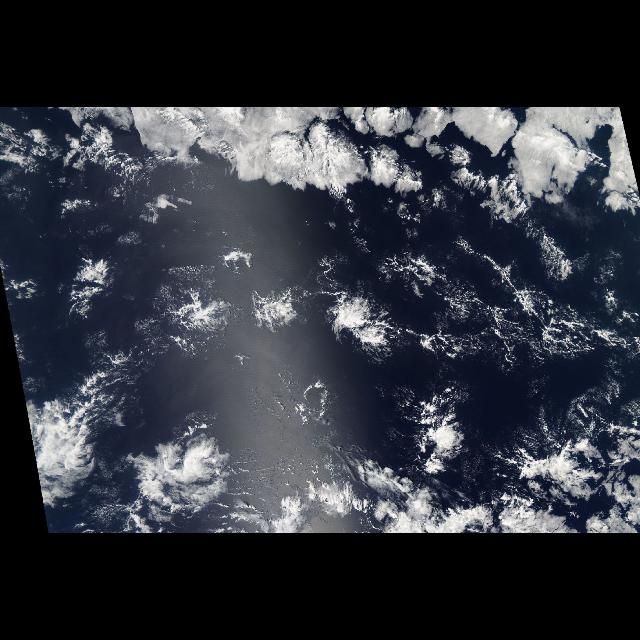Fish: (334, 253, 640, 532)
Flower: (53, 109, 639, 494)
